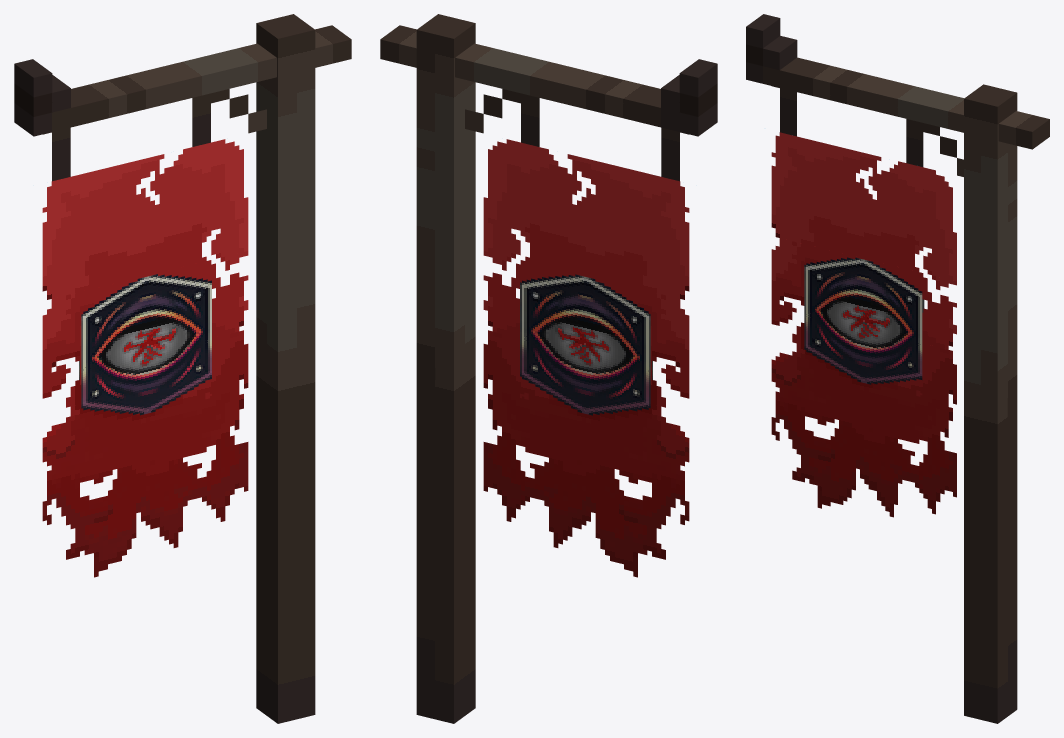
3 renders of one model, left to right at view 1: azimuth 30°, elevation 25°; view 2: azimuth 150°, elevation 25°; view 3: azimuth 330°, elevation 25°, orthographic. The views are drawn at different scales.
Visible parts, largest first — view 1: Stik, Lower, Upper, Stik Z, Top of the icon, Bottom of the icon, Average, Wooden, Stik Y, Stik W; view 2: Stik, Lower, Upper, Stik Z, Top of the icon, Bottom of the icon, Average, Wooden, Stik Y, Stik W; view 3: Stik, Lower, Upper, Stik Z, Top of the icon, Bottom of the icon, Average, Wooden, Stik Y, Stik W.
Boxes of the visible parts, left/top/right/bottom form: Stik: left=256, top=14, right=315, bottom=723; Lower: left=42, top=330, right=248, bottom=577; Upper: left=42, top=139, right=248, bottom=299; Stik Z: left=14, top=25, right=351, bottom=136; Top of the icon: left=79, top=274, right=211, bottom=370; Bottom of the icon: left=79, top=339, right=211, bottom=415; Average: left=42, top=251, right=248, bottom=379; Wooden: left=43, top=89, right=266, bottom=181; Stik Y: left=14, top=75, right=70, bottom=116; Stik W: left=14, top=59, right=52, bottom=97; Stik: left=416, top=14, right=475, bottom=723; Lower: left=483, top=330, right=689, bottom=577; Upper: left=483, top=139, right=689, bottom=299; Stik Z: left=380, top=25, right=717, bottom=136; Top of the icon: left=520, top=274, right=652, bottom=370; Bottom of the icon: left=520, top=339, right=652, bottom=415; Average: left=483, top=251, right=689, bottom=379; Wooden: left=465, top=89, right=688, bottom=181; Stik Y: left=661, top=75, right=717, bottom=116; Stik W: left=679, top=59, right=717, bottom=97; Stik: left=964, top=84, right=1017, bottom=723; Lower: left=771, top=307, right=956, bottom=517; Upper: left=771, top=132, right=956, bottom=281; Stik Z: left=746, top=57, right=1049, bottom=149; Top of the icon: left=804, top=257, right=924, bottom=344; Bottom of the icon: left=804, top=315, right=922, bottom=396; Average: left=771, top=238, right=956, bottom=349; Wooden: left=772, top=86, right=963, bottom=176; Stik Y: left=746, top=36, right=797, bottom=70; Stik W: left=746, top=14, right=780, bottom=48.
Size of the model in its own units: 1.06 by 2.25 by 0.125.
6 materials, 6 textured.
